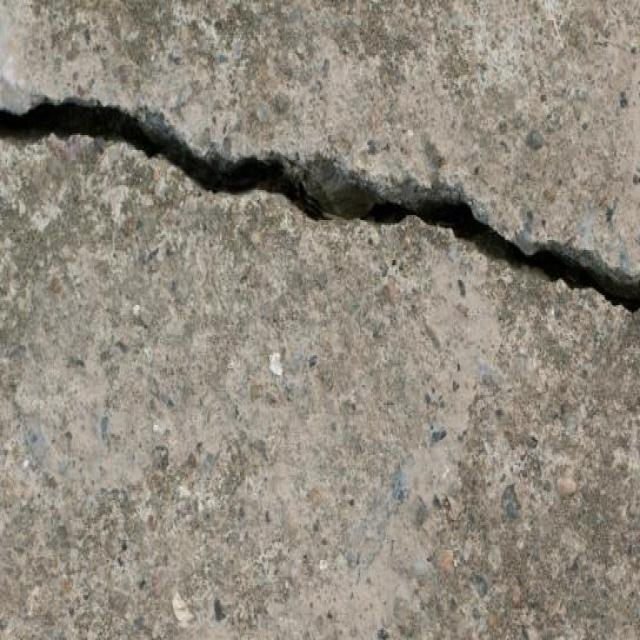Diagonal: (0, 96, 640, 320)
